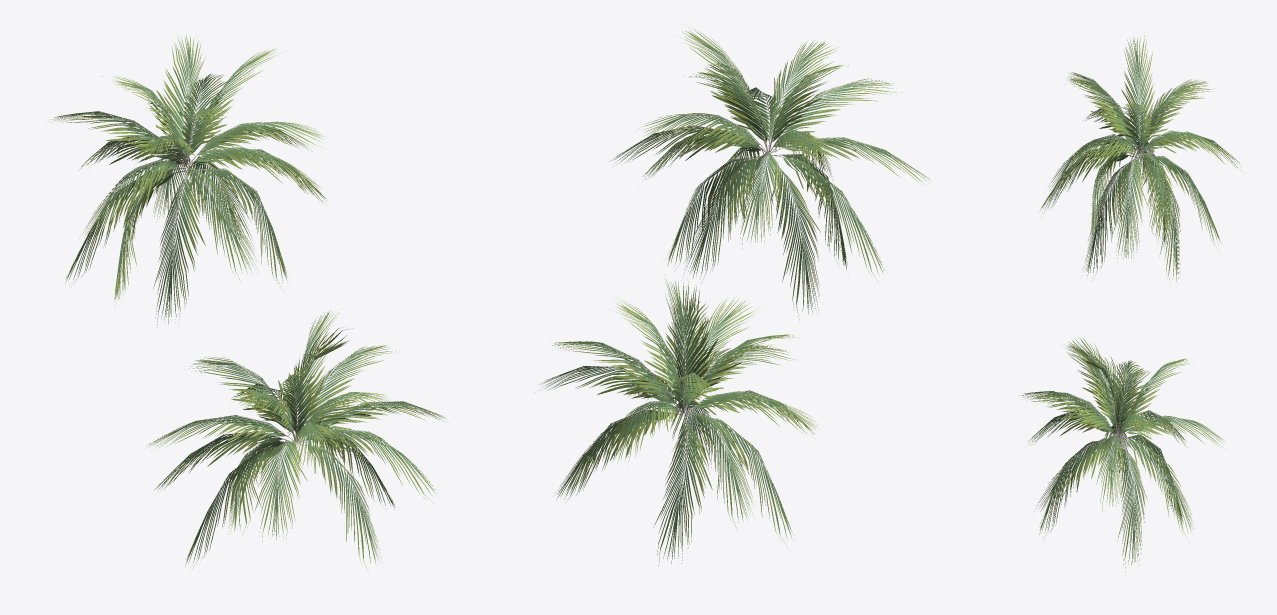
File: m_palm_p2_20_leaf_0.001.glb
The picture shows the model from 3 angles, left to right: view 1: azimuth 30°, elevation 25°; view 2: azimuth 150°, elevation 25°; view 3: azimuth 270°, elevation 25°; orthographic projection. The views are drawn at different scales.
Parts seen in each view (by area): view 1: M_Palm_P2_20_Leaf_0.001; view 2: M_Palm_P2_20_Leaf_0.001; view 3: M_Palm_P2_20_Leaf_0.001.
Boxes of the visible parts, left/top/right/bottom form: M_Palm_P2_20_Leaf_0.001: left=52, top=34, right=449, bottom=571; M_Palm_P2_20_Leaf_0.001: left=539, top=27, right=930, bottom=565; M_Palm_P2_20_Leaf_0.001: left=1020, top=32, right=1240, bottom=572.
Bounding box in the file's own units: 5.2 × 6.29 × 3.29.
1 material, 1 textured.
